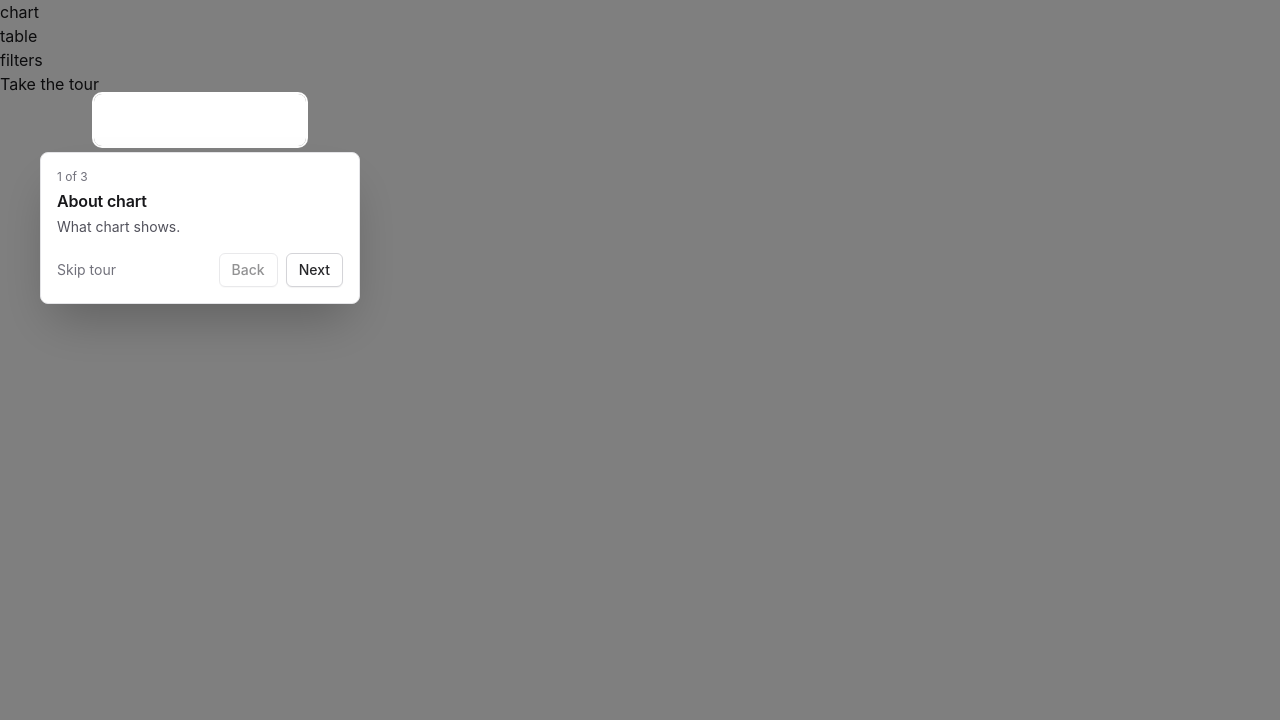
it: TourRunner › steps with Next and Back, and ends on Done
The width and height of the screenshot is (1280, 720).
Expected: the button "Back" is disabled, 219,253 -> 278,287
Click the button "Next".
click(314, 270)  # box 286,253 -> 343,287
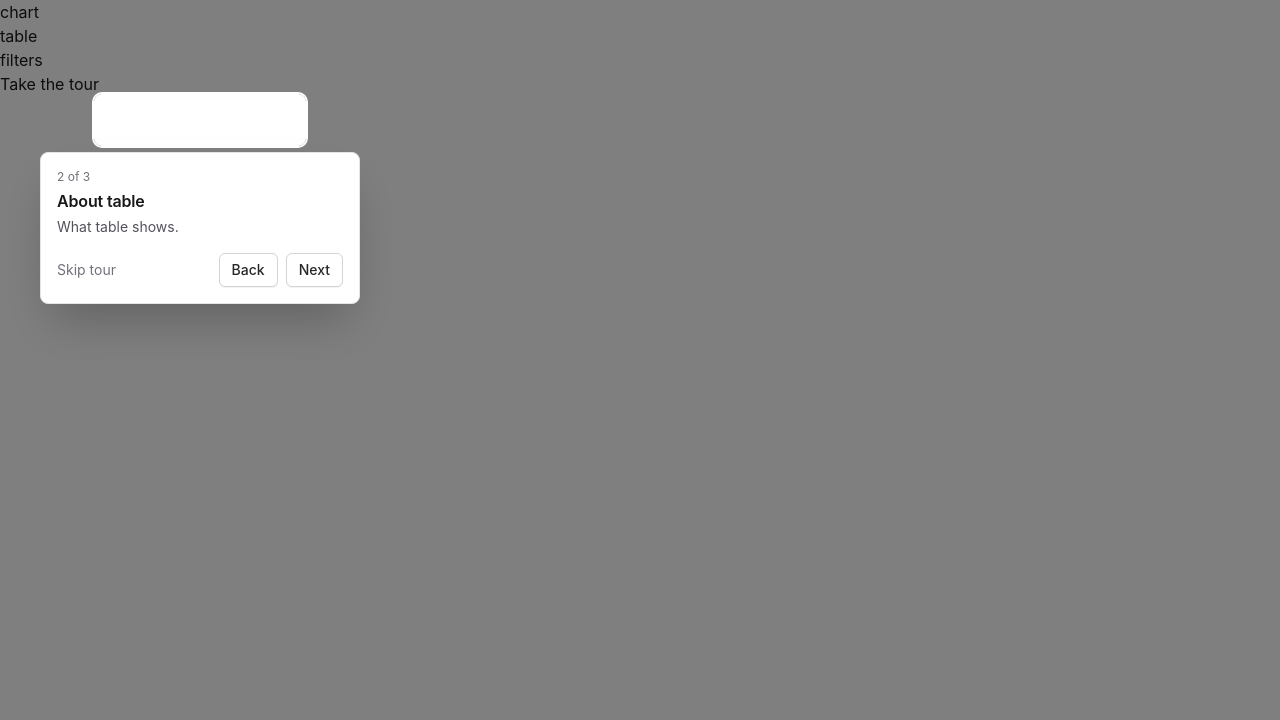
Expected: the heading "About table" is shown, 57,191 -> 145,211
Click the button "Back".
click(248, 270)  # box 219,253 -> 278,287
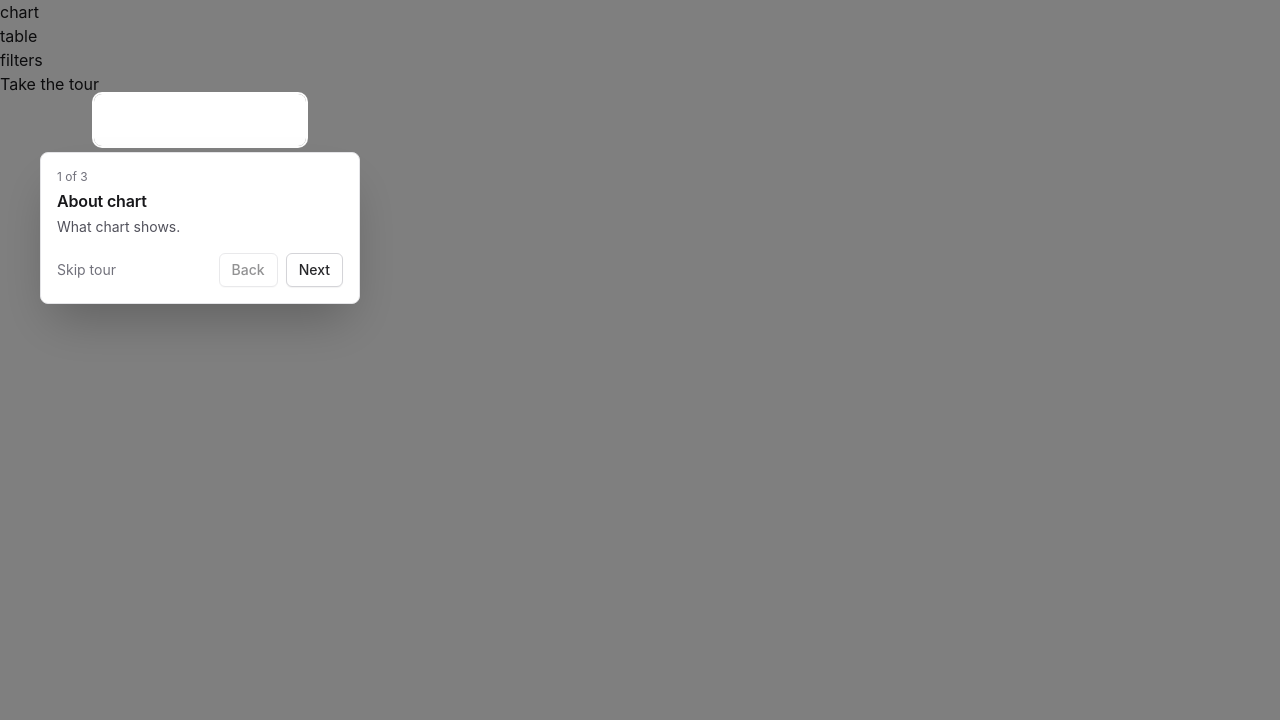
Expected: the heading "About chart" is shown, 57,191 -> 147,211
Click the button "Next".
click(314, 270)  # box 286,253 -> 343,287
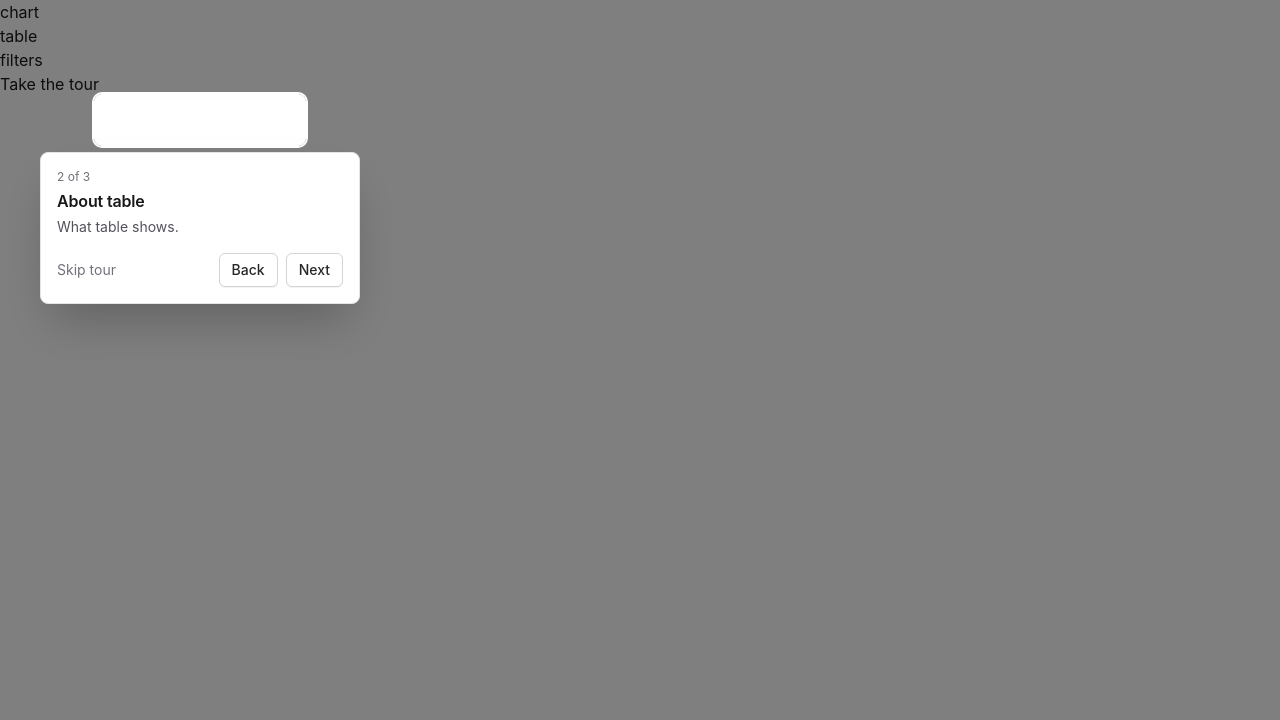
Click the button "Next".
click(314, 270)  # box 286,253 -> 343,287
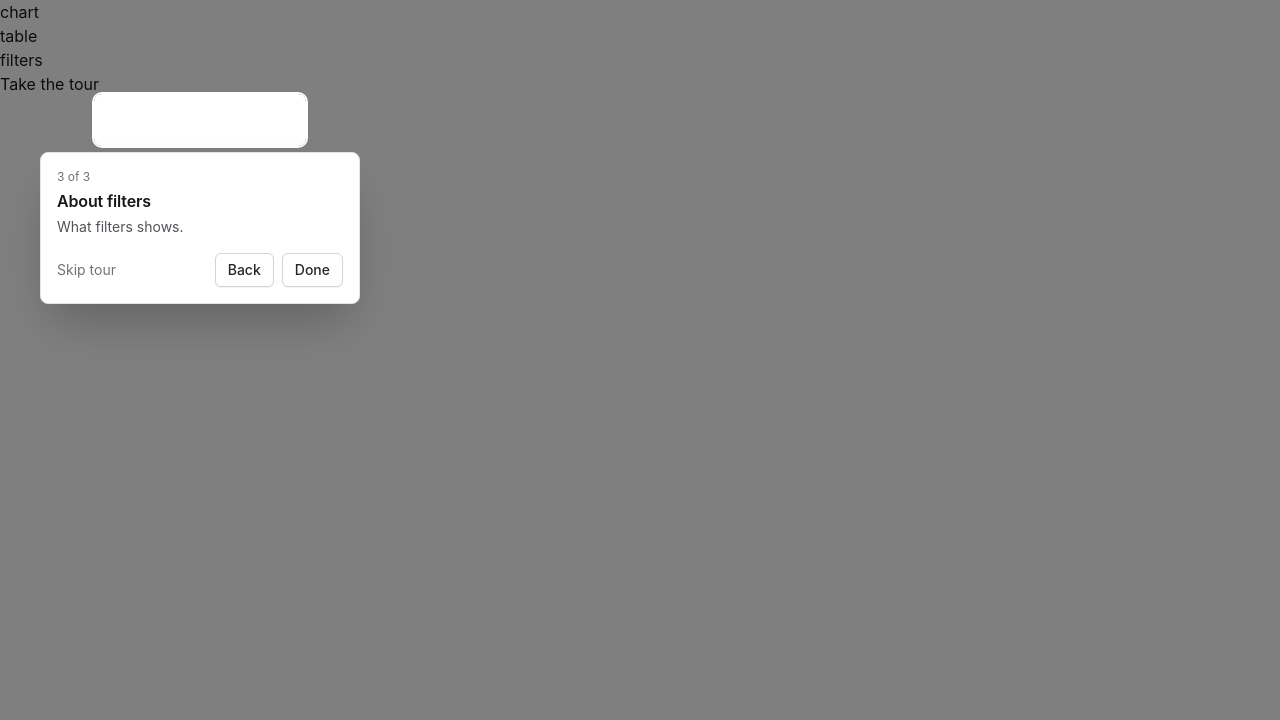
Expected: the dialog shows "3 of 3", 40,152 -> 360,304
Click the button "Done".
click(312, 270)  # box 282,253 -> 343,287
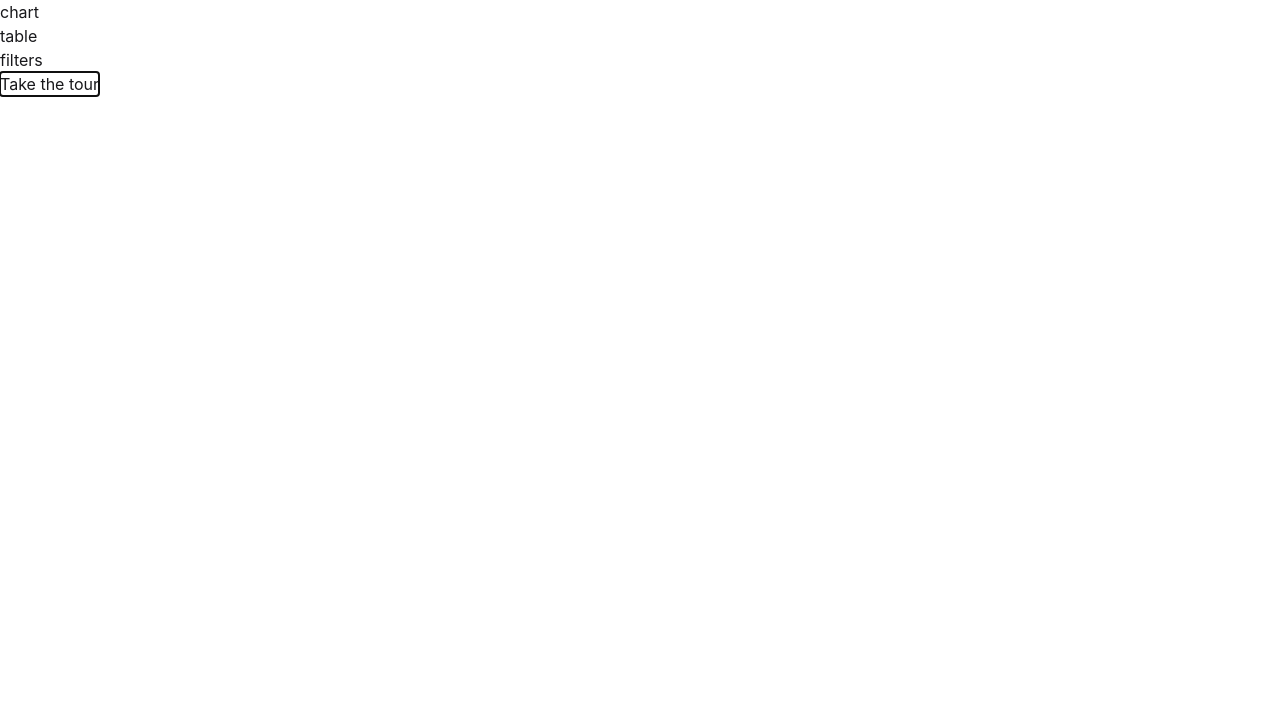
Expected: the dialog is gone
